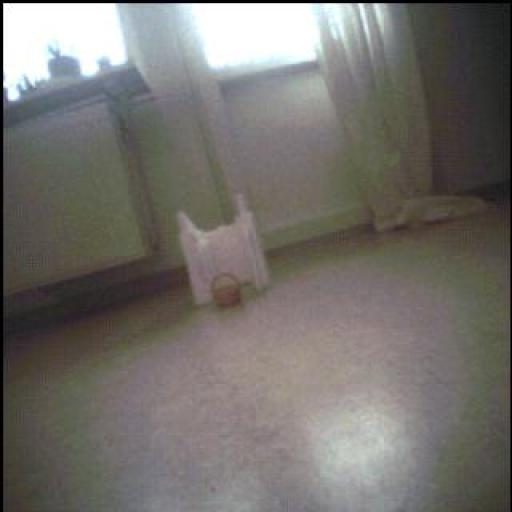Basket: (212, 275, 243, 308)
